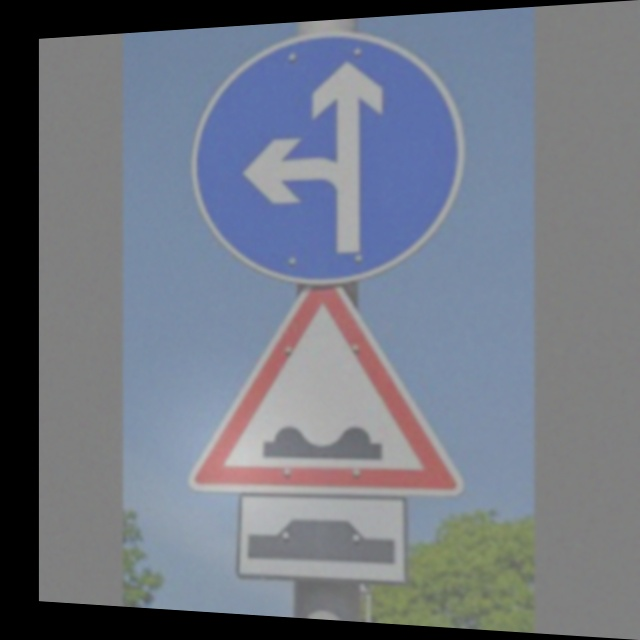Compulsory_Ahead_or_Turn_Left: (184, 28, 478, 286)
